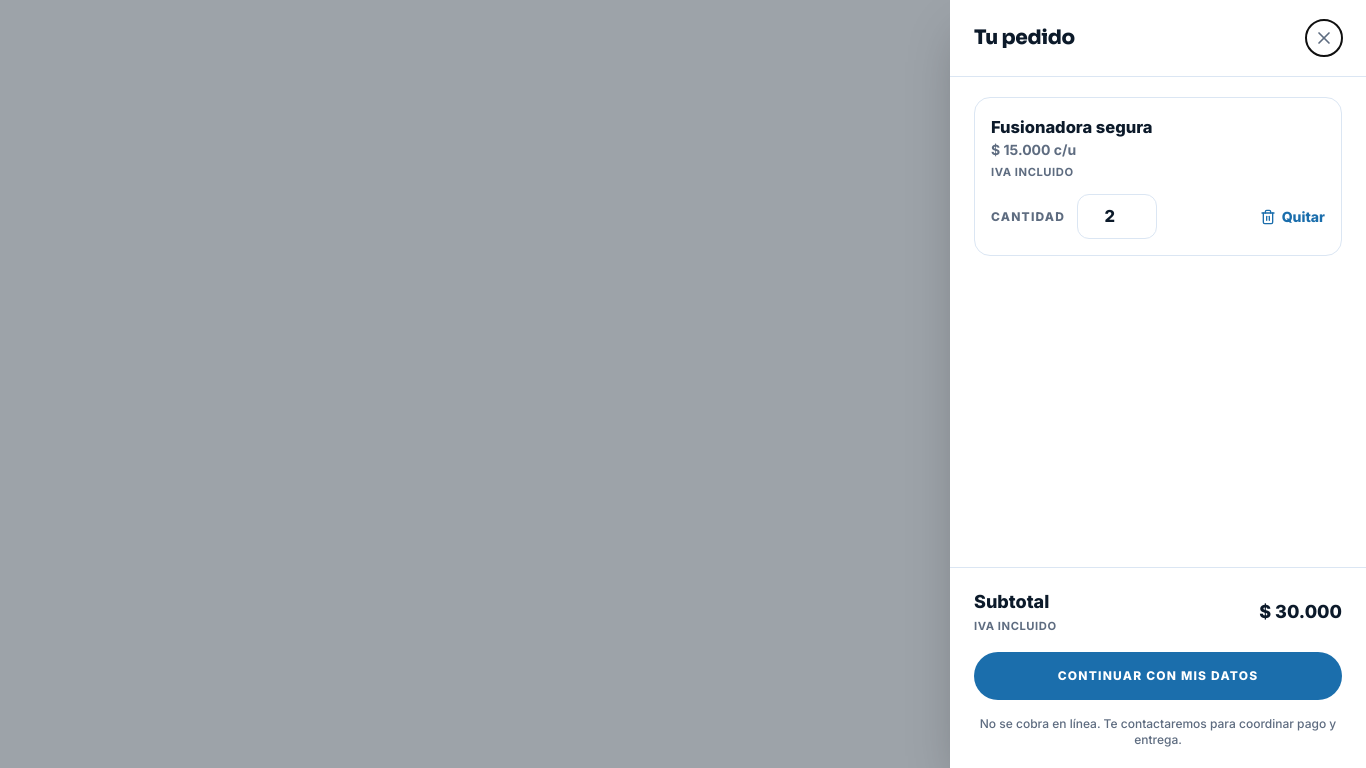
CartDrawer cart step › persists a valid quantity change and updates the subtotal
Step 1. Replace the text in the number field labelled "Cantidad" with "3" → (1117, 216), box [1077, 194, 1157, 239]
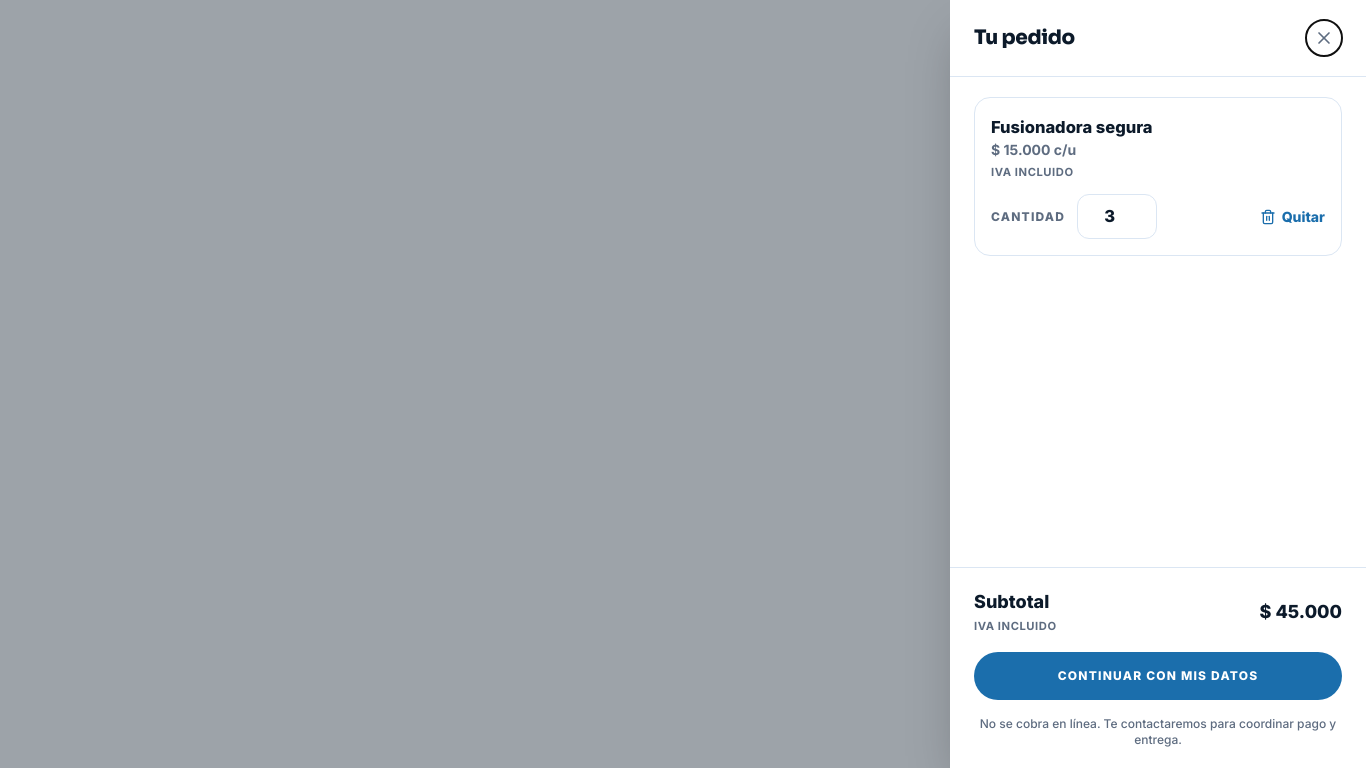
Now the text "$ 45.000" is shown, box [1260, 598, 1342, 626]
